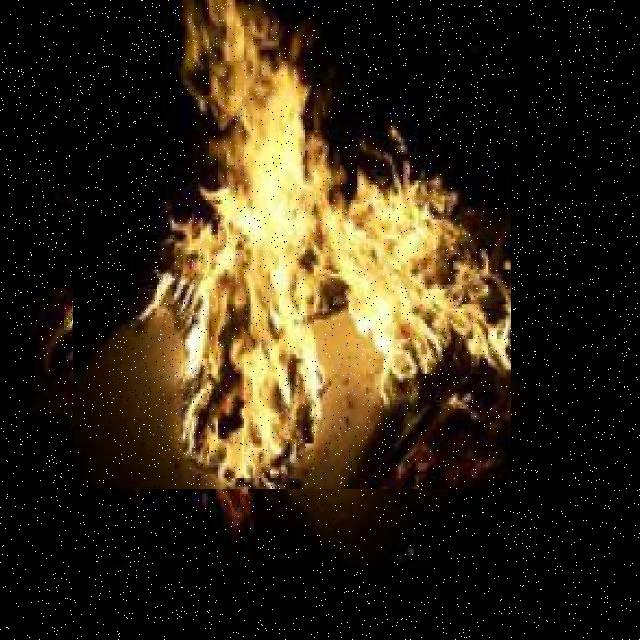fire: (73, 0, 511, 489)
